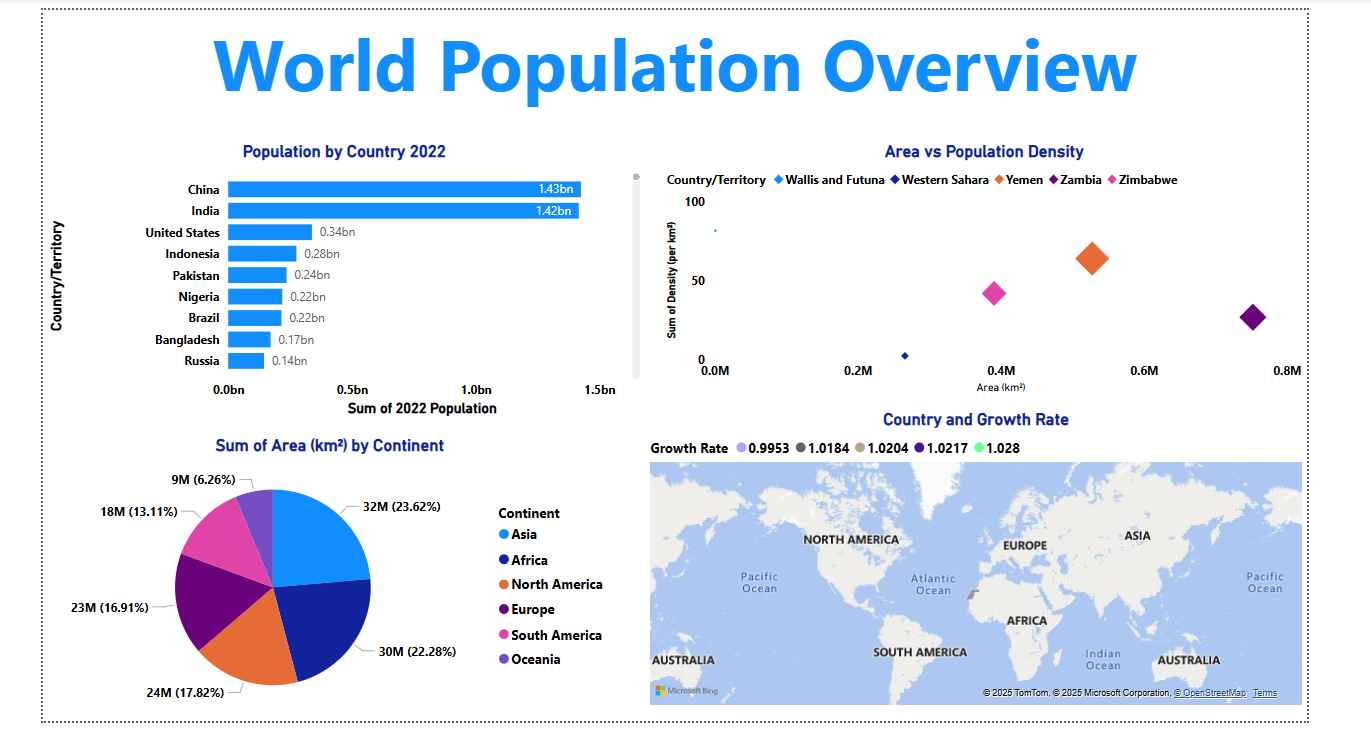

The page's visual inventory and layout, read from the dashboard file:
{"tool":"powerbi","page":{"name":"Page 1","canvas":[1280,720],"ordinal":0},"visuals":[{"type":"clusteredBarChart","title":"Population by Country 2022","fields":{"Category":["world_population.Country/Territory"],"Y":["Sum(world_population.2022 Population)"]},"box":[0,132.9,610.1,283.5],"z":0},{"type":"pieChart","fields":{"Y":["Sum(world_population.Area (km²))"],"Category":["world_population.Continent"]},"box":[0,430.4,581,289.9],"z":1000},{"type":"scatterChart","title":"Area vs Population Density","fields":{"X":["world_population.Area (km²)"],"Y":["Sum(world_population.Density (per km²))"],"Size":["Sum(world_population.2022 Population)"],"Series":["world_population.Country/Territory"]},"box":[626.6,132.9,653.2,260.8],"z":2000},{"type":"filledMap","title":"Country and Growth Rate","fields":{"Category":["world_population.Country/Territory"],"Series":["world_population.Growth Rate"]},"box":[610.1,403.8,669.6,305.1],"z":3000},{"type":"textbox","box":[0,0,1280.3,120.8],"z":4000}]}

Visuals, with their boxes on the page's 1280x720 design canvas (x1, y1, x2, y2). These are canvas units, not pixel positions in the 1371x729 screenshot, which may show the page scaled, cropped or inside an application window:
"Population by Country 2022" clusteredBarChart: <bbox>0, 133, 610, 416</bbox>
pieChart - Sum(world_population.Area (km²)) x world_population.Continent: <bbox>0, 430, 581, 720</bbox>
"Area vs Population Density" scatterChart: <bbox>627, 133, 1280, 394</bbox>
"Country and Growth Rate" filledMap: <bbox>610, 404, 1280, 709</bbox>
textbox: <bbox>0, 0, 1280, 121</bbox>
